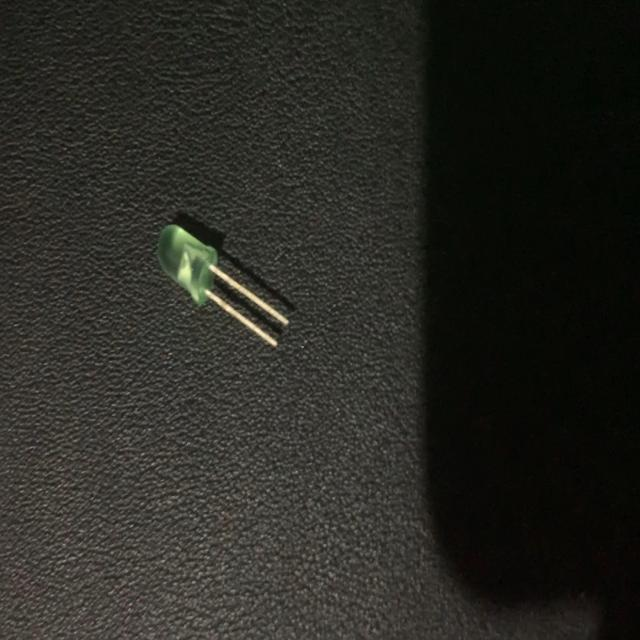LED: (153, 220, 289, 348)
